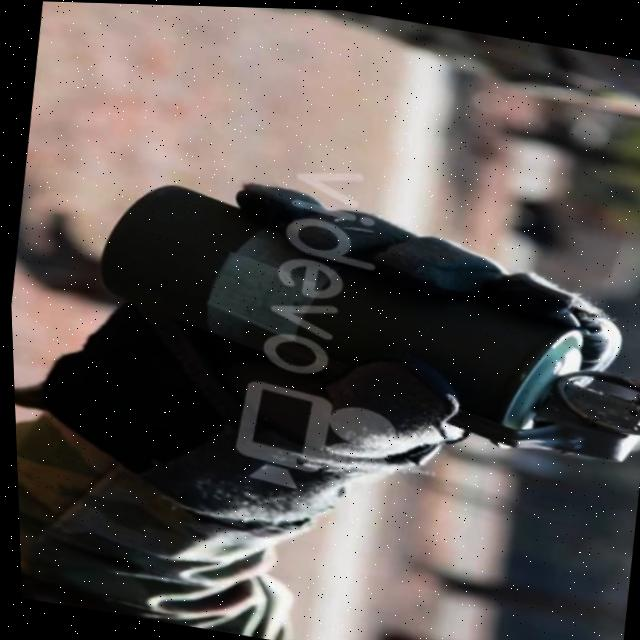grenade: (67, 159, 640, 478)
